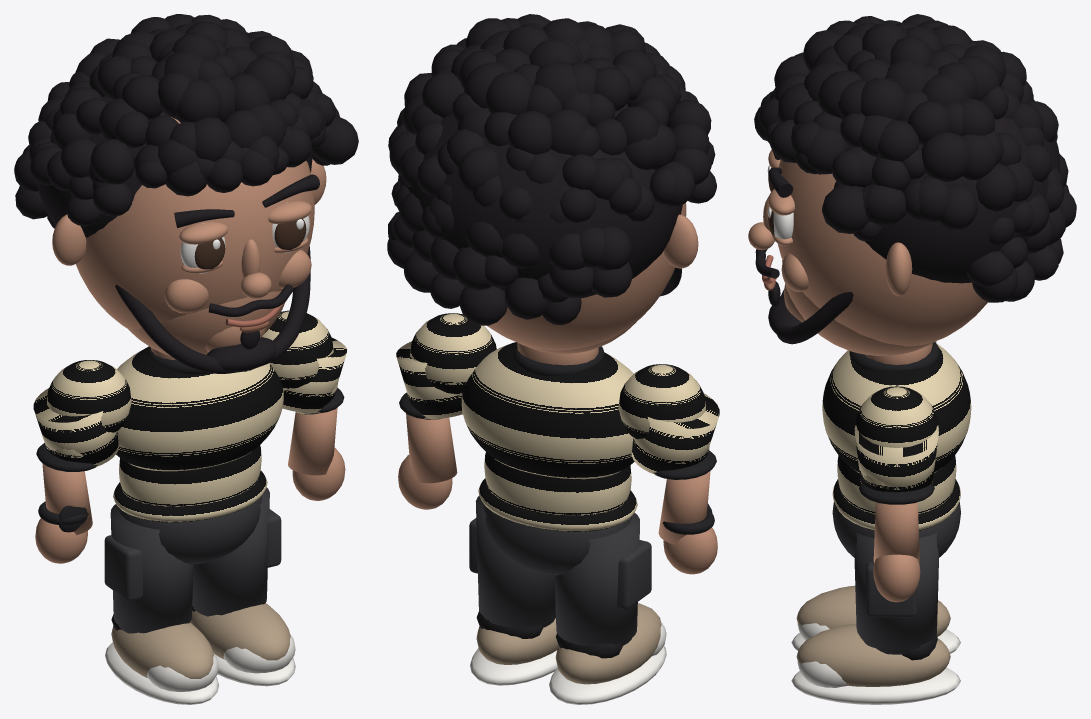
File: mini-ashique.glb
3 views of the same model, side by side, from view 1: azimuth 30°, elevation 25°; view 2: azimuth 150°, elevation 25°; view 3: azimuth 270°, elevation 25° (orthographic). The views are drawn at different scales.
Visible parts, largest first — view 1: Skull, Torso, Pant.001, Waist, Pant, Shoulder.001, Shoe.001, Hips, Shoe, Sleeve.001, Shoulder, Jaw (+68 smaller); view 2: Torso, HairCap, Pant.001, Skull, Pant, Waist, Shoulder, Shoulder.001, Hips, Sleeve.001, Shoe.001, Forearm (+82 smaller); view 3: Skull, Torso, HairCap, Shoe, Pant, Shoulder, Sleeve, Sole, Forearm, Shoe.001, Jaw, Waist (+64 smaller).
Boxes of the visible parts, bbox=[...] form: Skull: bbox=[76, 117, 314, 329]; Torso: bbox=[116, 347, 283, 471]; Pant.001: bbox=[110, 504, 193, 633]; Waist: bbox=[119, 445, 261, 506]; Pant: bbox=[192, 487, 269, 615]; Shoulder.001: bbox=[47, 360, 131, 432]; Shoe.001: bbox=[111, 622, 213, 678]; Hips: bbox=[118, 496, 261, 564]; Shoe: bbox=[190, 603, 290, 660]; Sleeve.001: bbox=[33, 388, 118, 467]; Shoulder: bbox=[262, 310, 333, 390]; Jaw: bbox=[128, 291, 284, 355]; Torso: bbox=[461, 342, 634, 479]; HairCap: bbox=[398, 104, 682, 298]; Pant.001: bbox=[554, 513, 639, 646]; Skull: bbox=[487, 203, 686, 350]; Pant: bbox=[475, 496, 555, 627]; Waist: bbox=[484, 452, 631, 515]; Shoulder: bbox=[410, 313, 496, 395]; Shoulder.001: bbox=[618, 364, 705, 439]; Hips: bbox=[484, 504, 631, 575]; Sleeve.001: bbox=[631, 393, 719, 475]; Shoe.001: bbox=[555, 603, 661, 684]; Forearm: bbox=[406, 413, 457, 483]; Skull: bbox=[777, 159, 987, 346]; Torso: bbox=[822, 343, 971, 472]; HairCap: bbox=[849, 94, 1060, 283]; Shoe: bbox=[796, 624, 950, 686]; Pant: bbox=[854, 533, 939, 650]; Shoulder: bbox=[854, 386, 938, 447]; Sleeve: bbox=[854, 425, 938, 492]; Sole: bbox=[791, 667, 960, 704]; Forearm: bbox=[873, 502, 919, 562]; Shoe.001: bbox=[796, 585, 950, 636]; Jaw: bbox=[782, 260, 935, 355]; Waist: bbox=[837, 455, 956, 514].
Size of the model in its own units: 0.7 by 1.4 by 0.639.
Materials: 11 (1 with a texture image).
